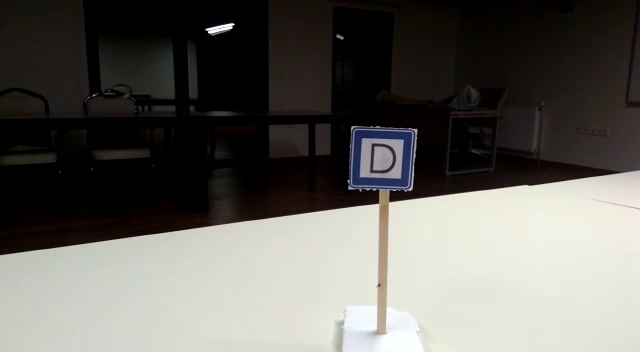durak: (349, 127, 415, 188)
